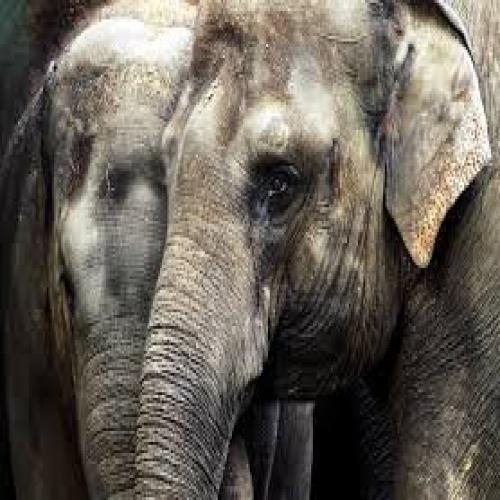asian_elephant-endangered: (131, 0, 500, 500), (0, 19, 302, 500)
